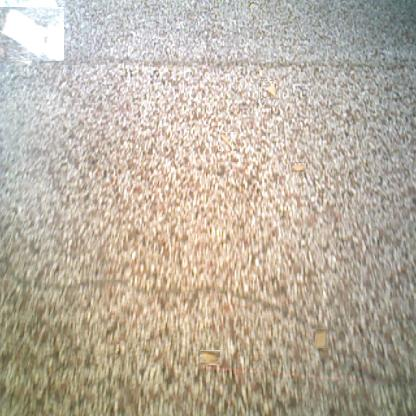dirty: (0, 4, 62, 65), (218, 132, 236, 151), (260, 80, 276, 99), (202, 349, 219, 366), (313, 330, 327, 350), (290, 162, 306, 172), (248, 1, 260, 7)
